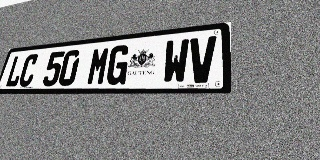0: (57, 49, 81, 86)
5: (42, 51, 65, 86)
C: (17, 54, 40, 87)
G: (105, 44, 131, 85)
L: (4, 55, 26, 87)
M: (86, 46, 111, 85)
V: (188, 36, 216, 83)
W: (162, 38, 190, 84)
